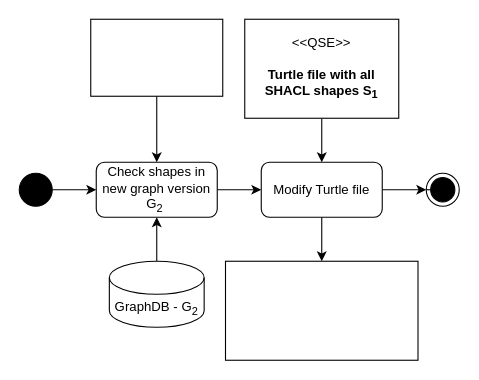
This 479x380 diagram has some shape labels left out. The centre of each missing label's shape, as x and y in pixels:
<<QSE>> Java objects S 1: the point at 156,57
<<SPARQL- ShapeValidator >> Turtle file with all SHACL shapes S 2: the point at 321,310
